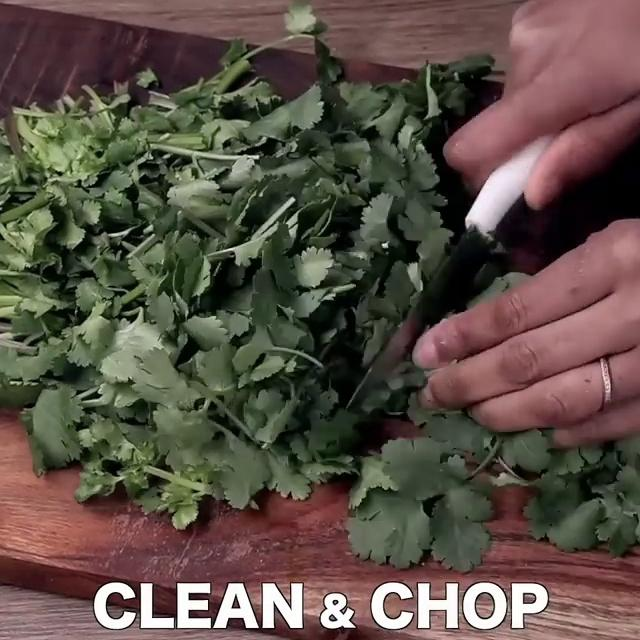cilantro: (0, 87, 367, 468)
